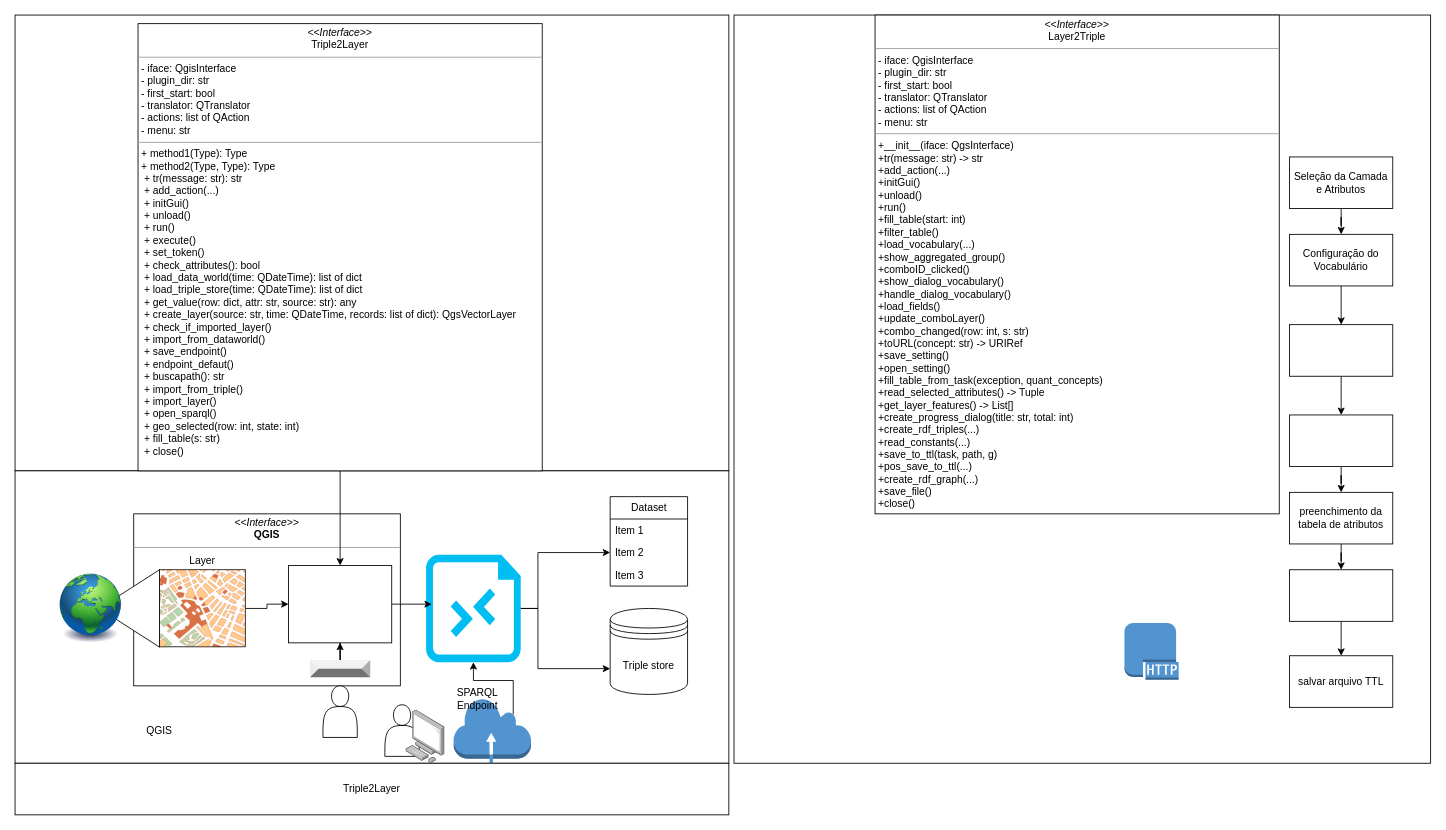
This 1446x830 diagram has some shape labels left out. Each missing label, with the centre of its shape:
"<<Interface>> Triple2Layer + dataset + Triple Store" goes at (x=340, y=604).
"conversão para RDF/Turtle" goes at (x=1341, y=595).
"importar" goes at (x=340, y=668).
"Processamento para Carregar o vocabulario" goes at (x=1341, y=350).
"RDF Mapping file" goes at (x=473, y=608).
"seleção de atributos para exportar" goes at (x=1341, y=440).
